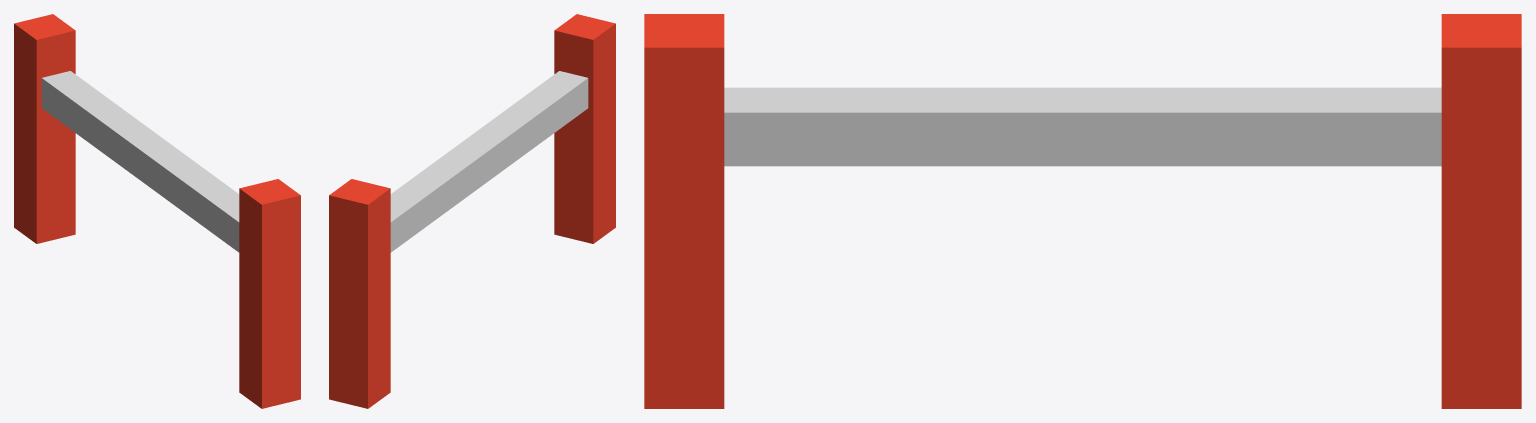
Rendered from long_fence.fbx.
3 renders of one model, left to right at view 1: azimuth 30°, elevation 25°; view 2: azimuth 150°, elevation 25°; view 3: azimuth 270°, elevation 25°, orthographic. The views are drawn at different scales.
Visible parts, largest first — view 1: Cube.002, Cube.001, Cube; view 2: Cube.001, Cube.002, Cube; view 3: Cube, Cube.001, Cube.002.
Part boxes in pixels (x1,y1,x2,y2): Cube.002: [239, 179, 300, 408]; Cube.001: [14, 14, 75, 243]; Cube: [41, 71, 239, 252]; Cube.001: [329, 179, 390, 408]; Cube.002: [554, 14, 615, 243]; Cube: [390, 71, 588, 252]; Cube: [724, 87, 1441, 166]; Cube.001: [1441, 14, 1521, 408]; Cube.002: [644, 14, 724, 408].
Size of the model in its own units: 40 by 200 by 440.
